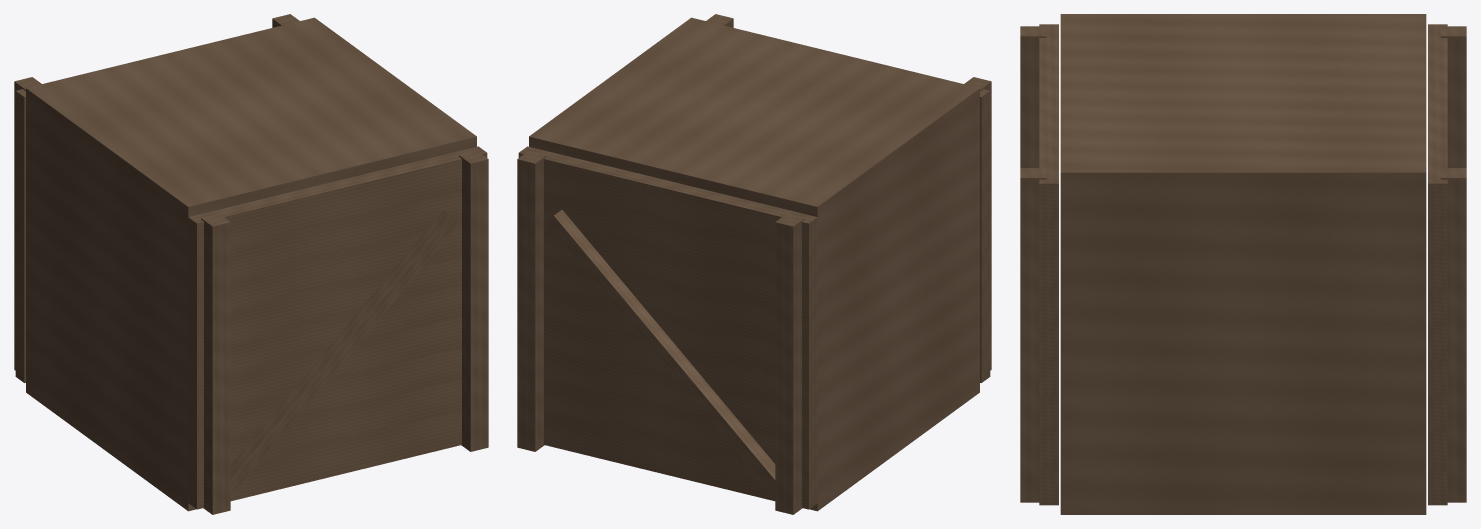
The model's file is timber_wall_z.glb.
The picture shows the model from 3 angles, left to right: view 1: azimuth 30°, elevation 25°; view 2: azimuth 150°, elevation 25°; view 3: azimuth 270°, elevation 25°; orthographic projection. The views are drawn at different scales.
Visible parts, largest first — view 1: G3_timber_z; view 2: G3_timber_z; view 3: G3_timber_z.
Boxes of the visible parts, left/top/right/bottom form: G3_timber_z: left=14, top=14, right=488, bottom=514; G3_timber_z: left=517, top=14, right=991, bottom=514; G3_timber_z: left=1020, top=14, right=1466, bottom=514.
Bounding box in the file's own units: 0.99 × 0.992 × 1.17.
1 material, 1 textured.
